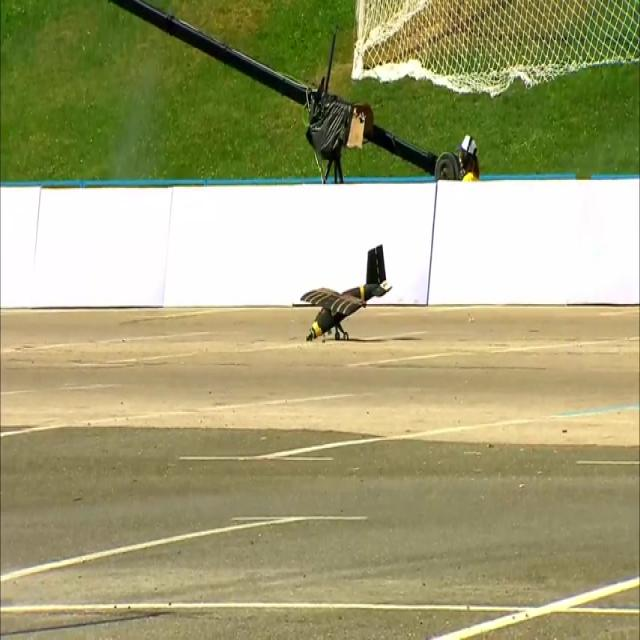iha: (331, 274, 360, 314)
